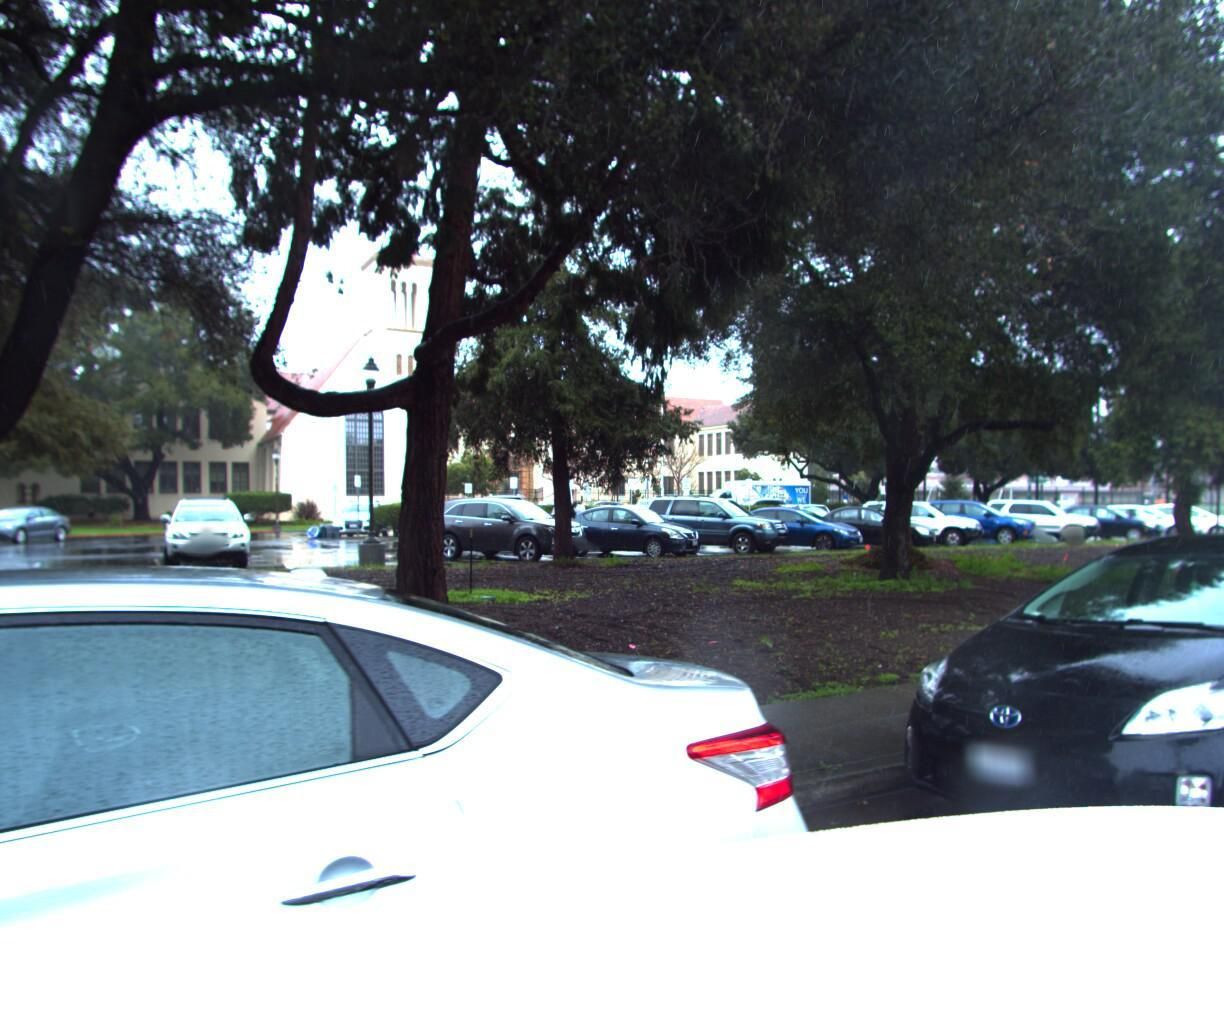car: (851, 516, 1224, 970)
